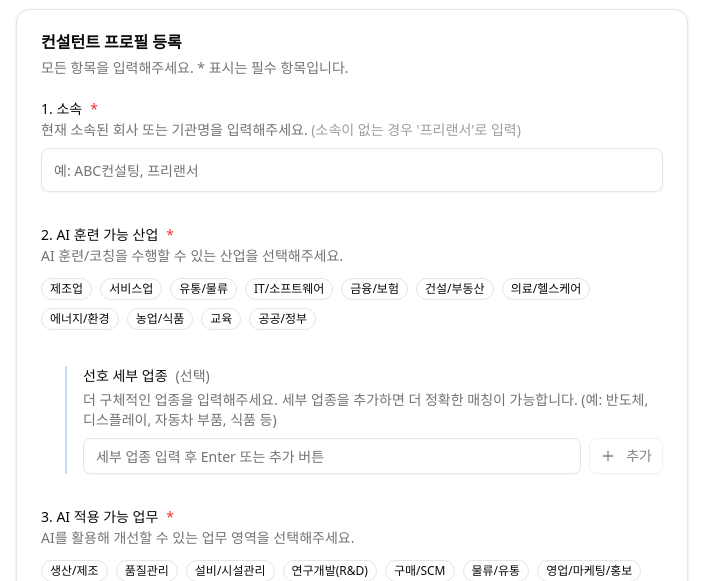
ProfileForm › BadgeSelector 통합 › 모든 필수 선택 항목 완료 후 제출 버튼이 활성화된다
Step 1. Click the text "제조업" → {"x": 67, "y": 289}, box [41,278,92,300]
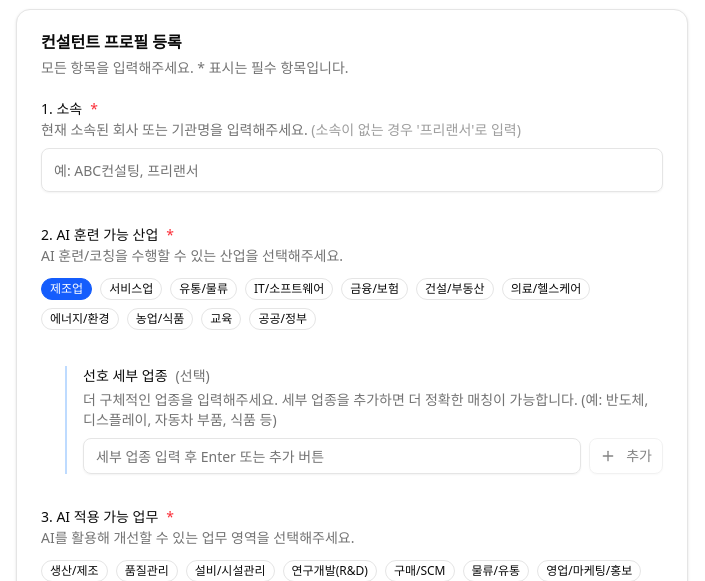
Step 2. Click the text "생산/제조" → {"x": 74, "y": 571}, box [41,560,108,580]
(page scrolled)
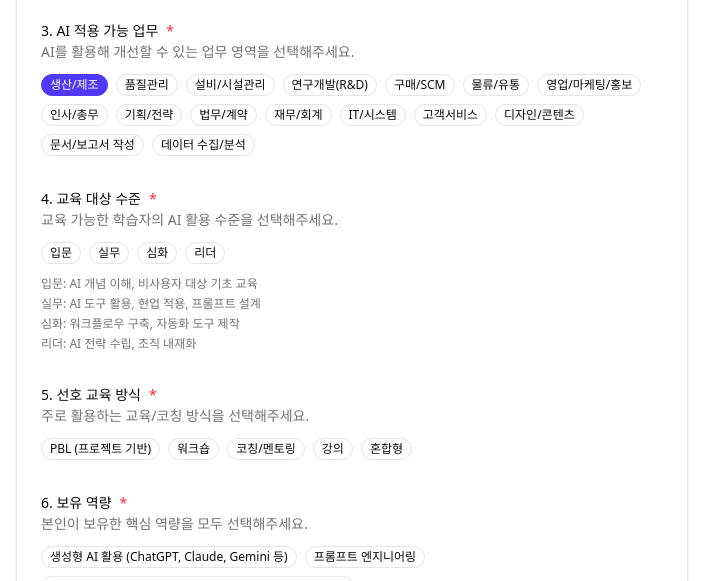
Step 3. Click the 1st text titled "AI 개념 이해, 비사용자 대상 기초 교육" → {"x": 61, "y": 253}, box [41,242,81,264]
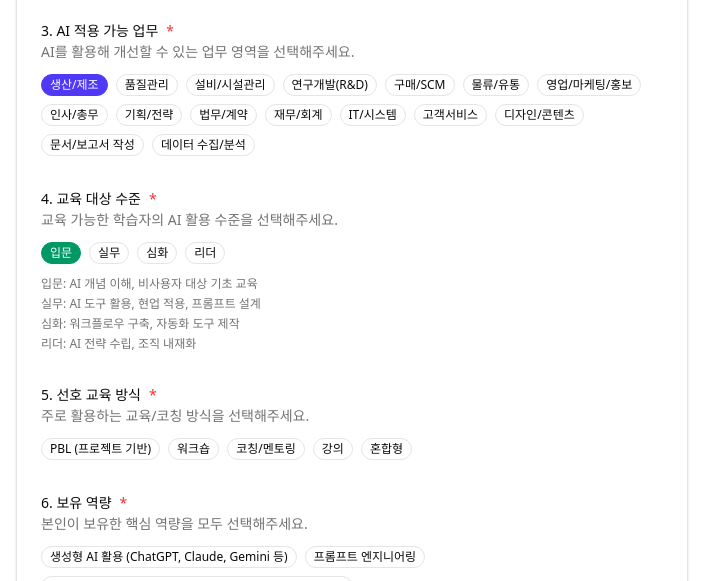
Step 4. Click the text "PBL (프로젝트 기반)" → {"x": 100, "y": 449}, box [41,438,160,460]
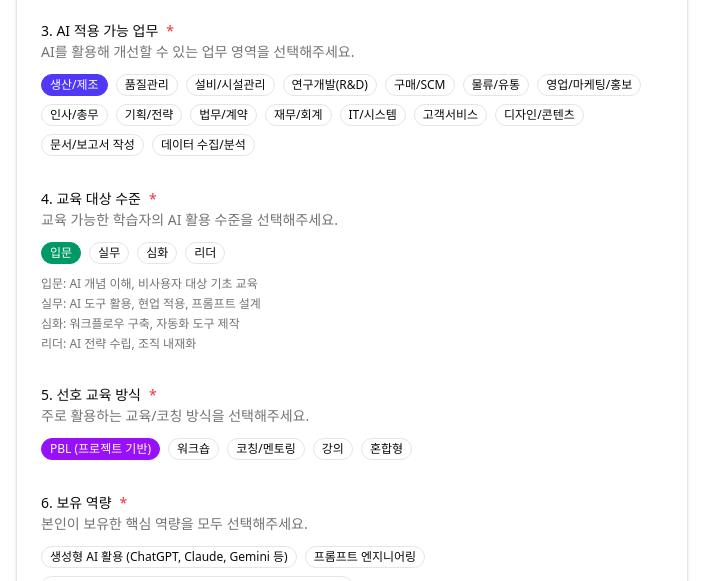
Step 5. Click the text "프롬프트 엔지니어링" → {"x": 365, "y": 557}, box [305,546,425,568]
(page scrolled)
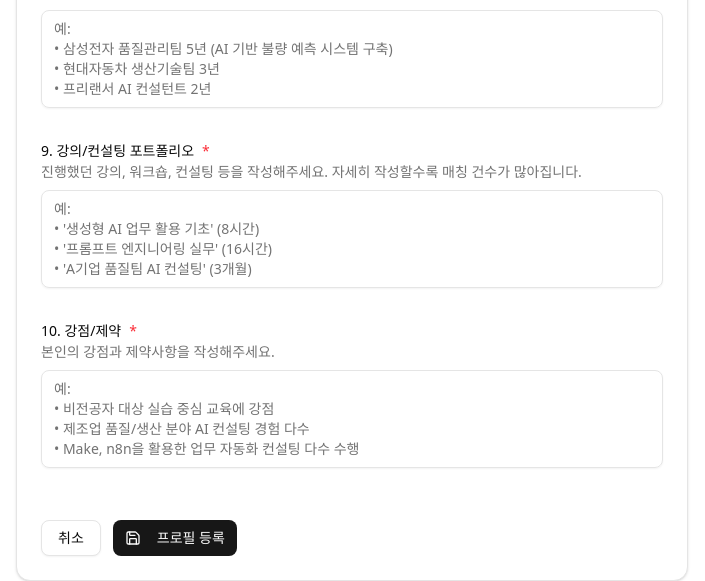
Result: the button "프로필 등록" is enabled at [113,520,237,556]
